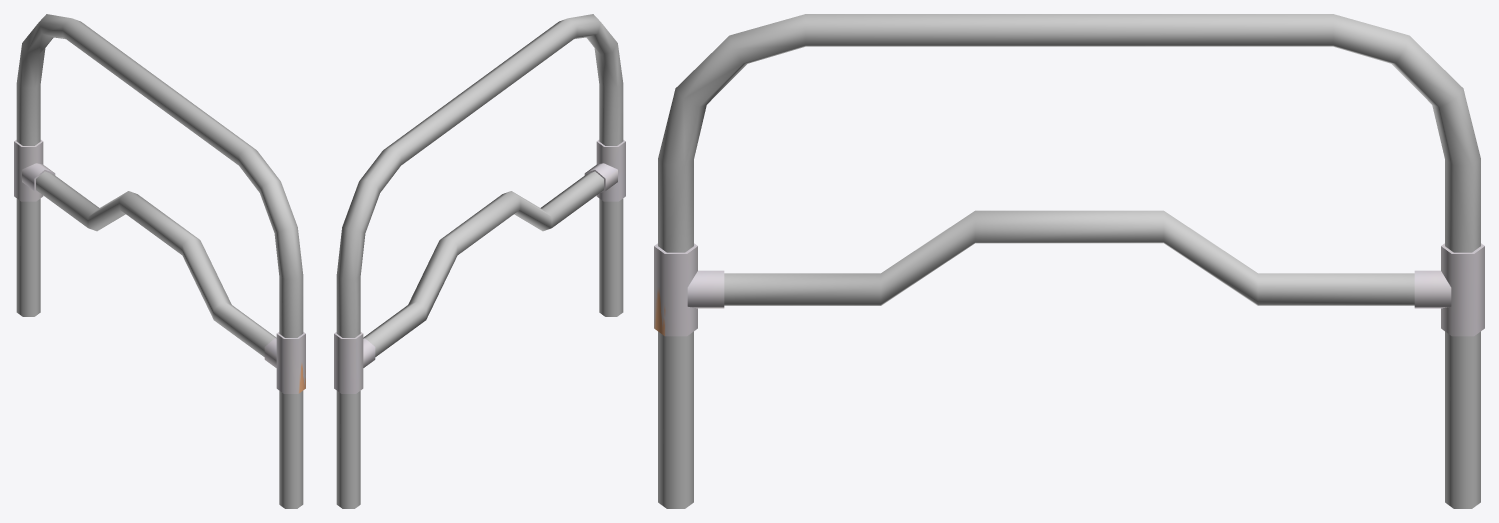
Rendered from Safety_Railing.fbx.
The picture shows the model from 3 angles, left to right: view 1: azimuth 30°, elevation 25°; view 2: azimuth 150°, elevation 25°; view 3: azimuth 270°, elevation 25°; orthographic projection. The views are drawn at different scales.
Visible parts, largest first — view 1: Safety_Railing; view 2: Safety_Railing; view 3: Safety_Railing.
Boxes of the visible parts, x1,y1,x2,y2 form: Safety_Railing: (14, 14, 305, 508); Safety_Railing: (334, 14, 625, 508); Safety_Railing: (654, 14, 1484, 508).
Bounding box in the file's own units: 7.5 × 106 × 163.
